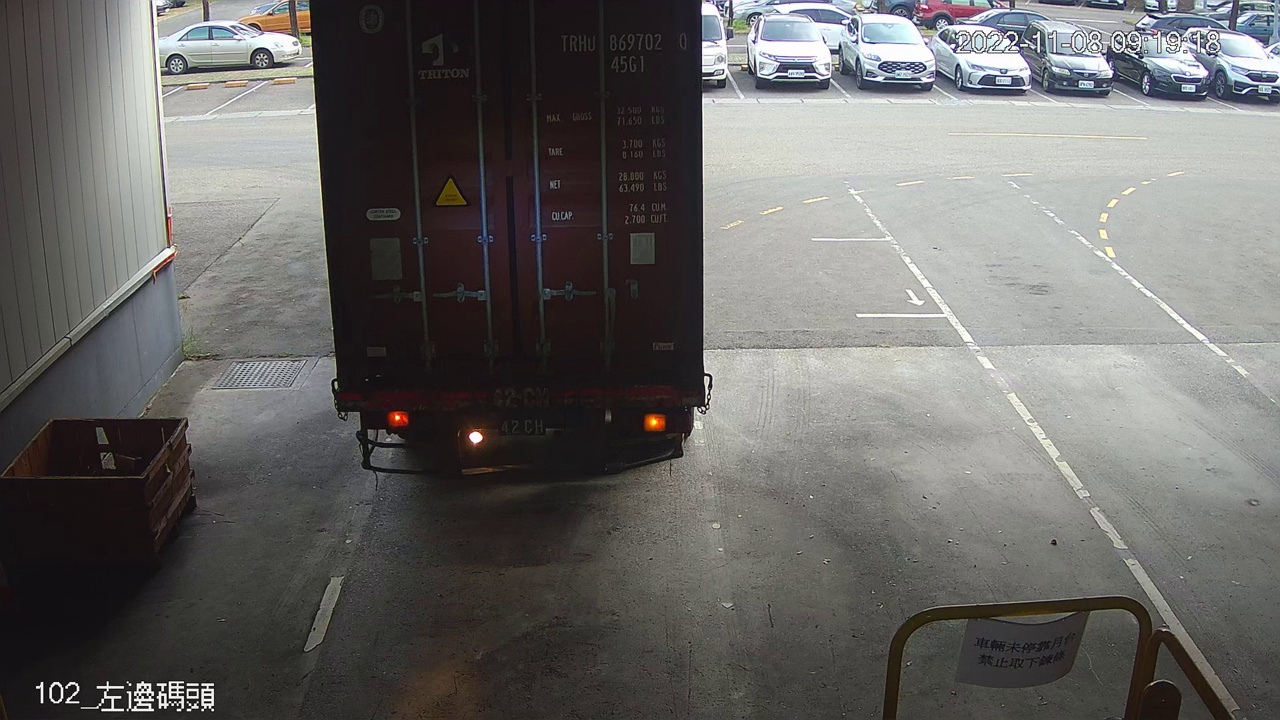container: (553, 23, 691, 79)
